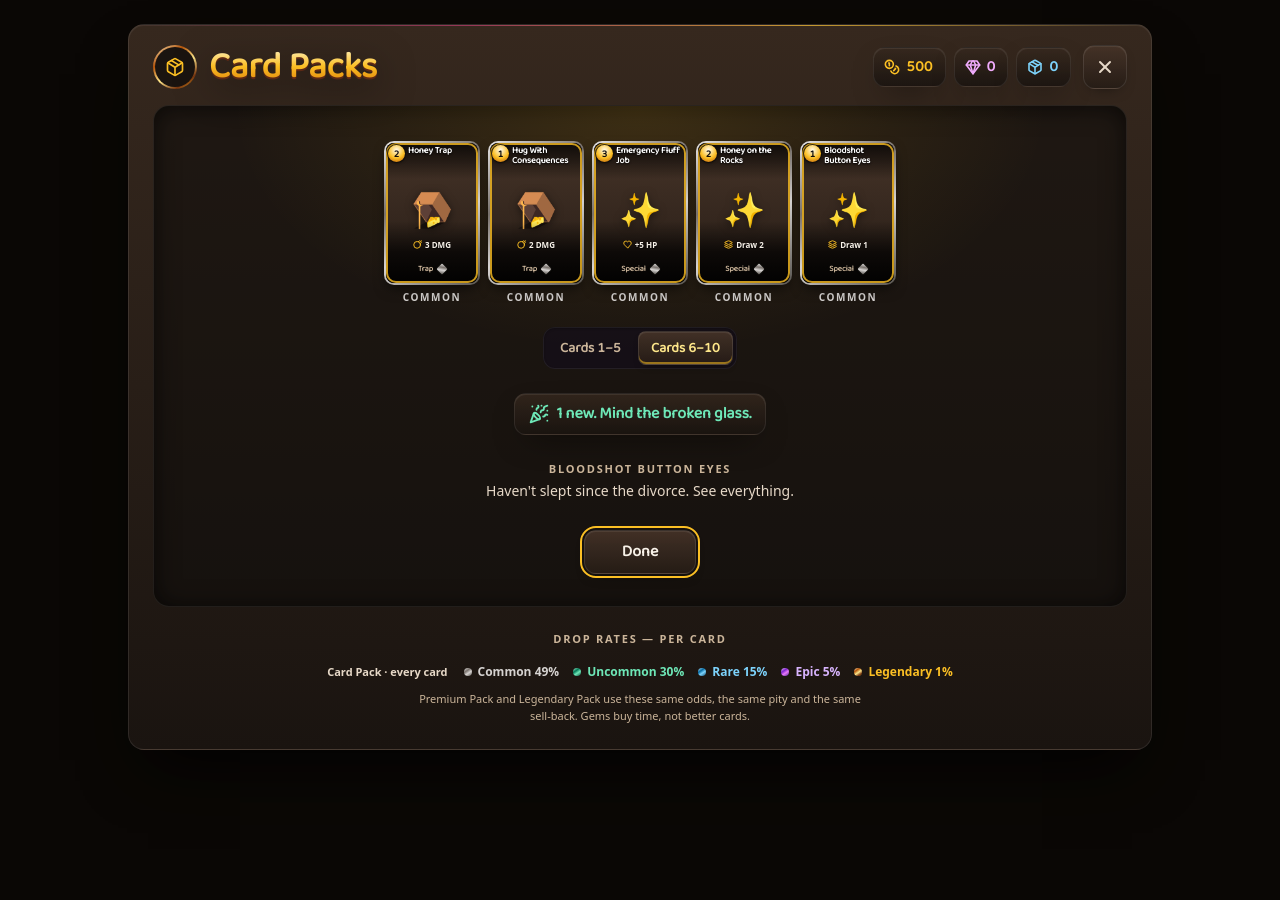
Test case: the flavor line under the table › with the pack opening face up › follows the wave on the table: the best of it, and back
Earlier steps of the test are not shown.
What coordinates should you click on to do the following:
click the button "Cards 1–5"
I would click on:
 (590, 348)
Its box is [547,331,634,365].
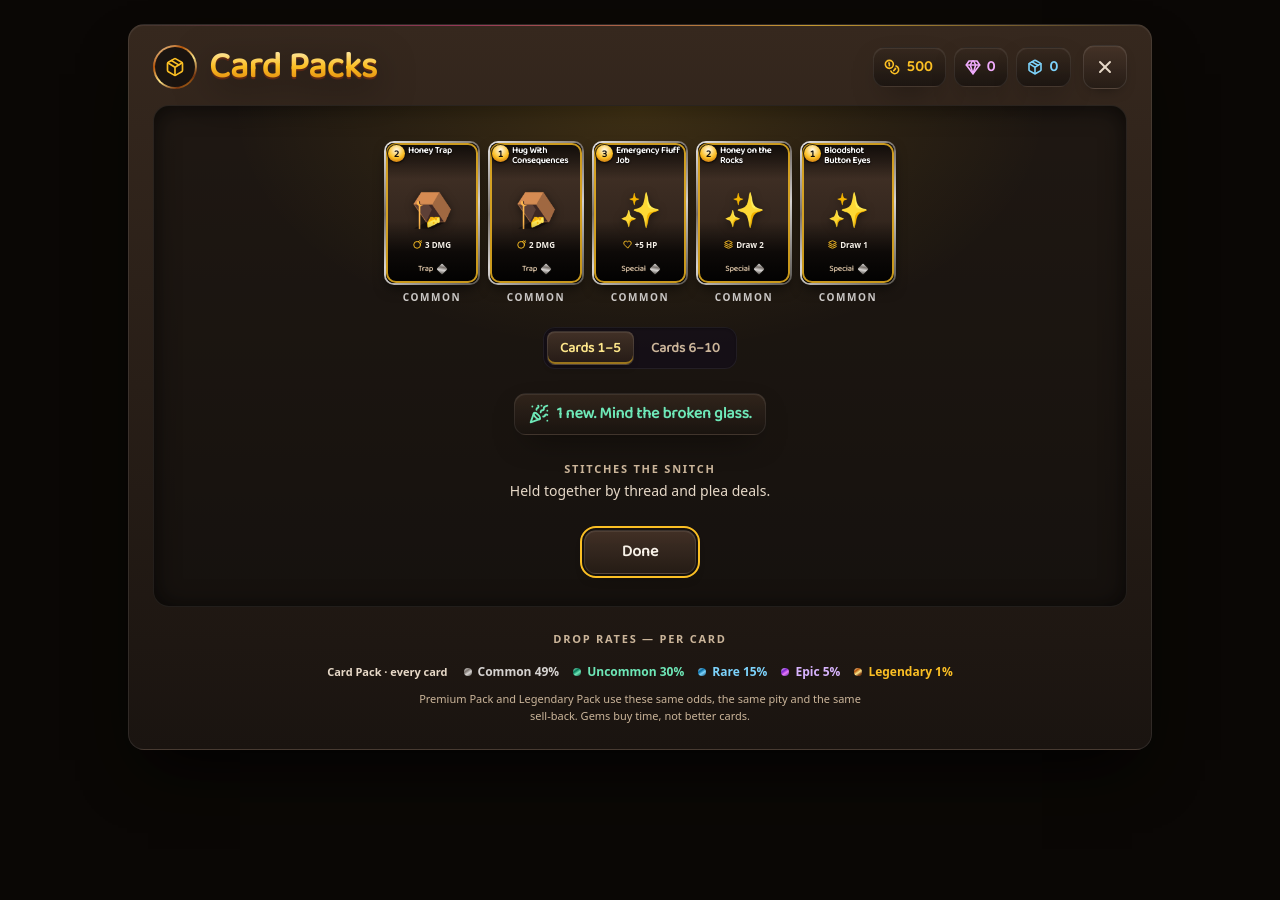
Expected: the text "Held together by thread and plea deals." is shown, [510,480,770,503]
What coordinates should you click on to do the following:
click the button "Cards 6–10"
I would click on:
 (685, 348)
Its box is [638,331,733,365].
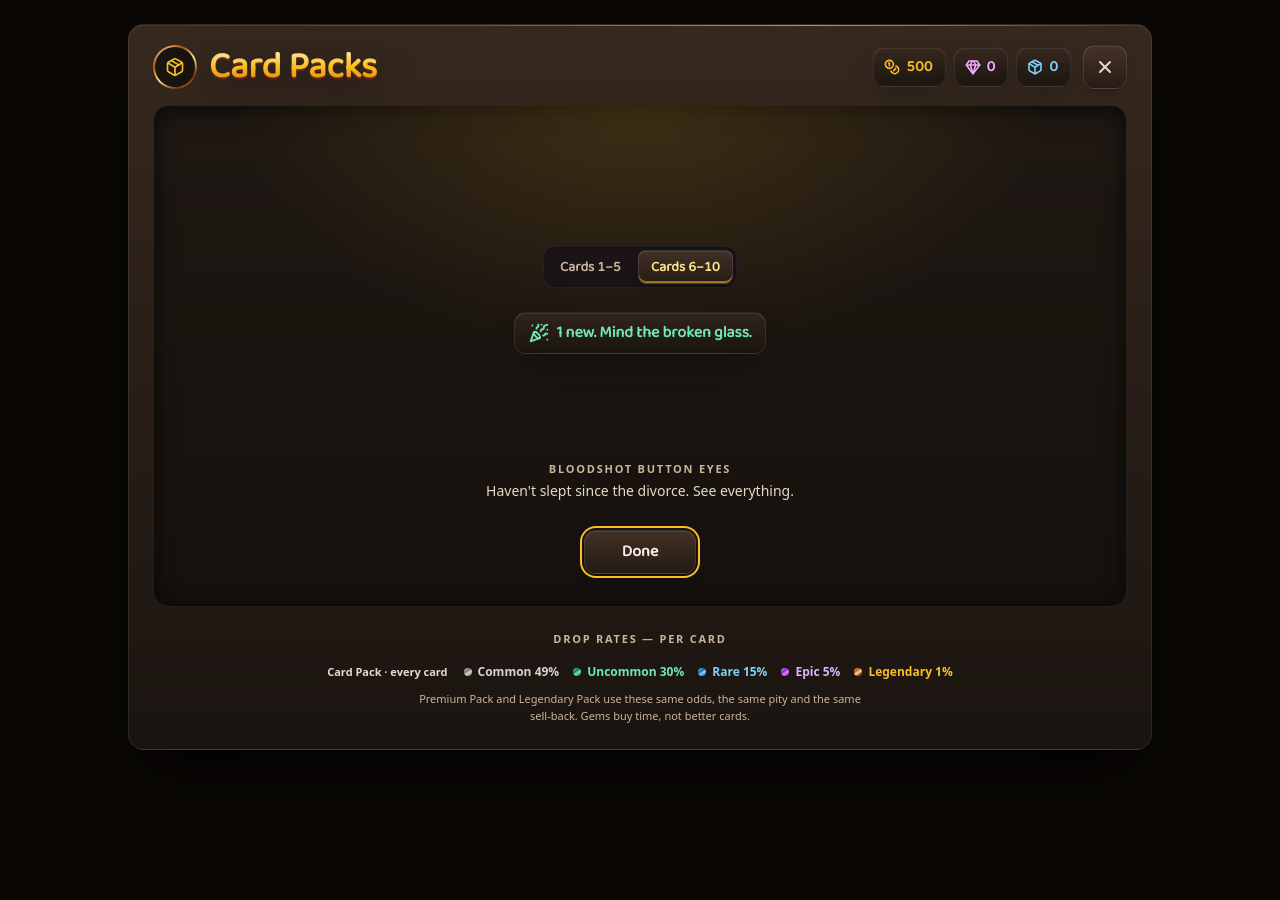
Expected: the text "Haven't slept since the divorce. See everything." is shown, [486,480,794,503]
